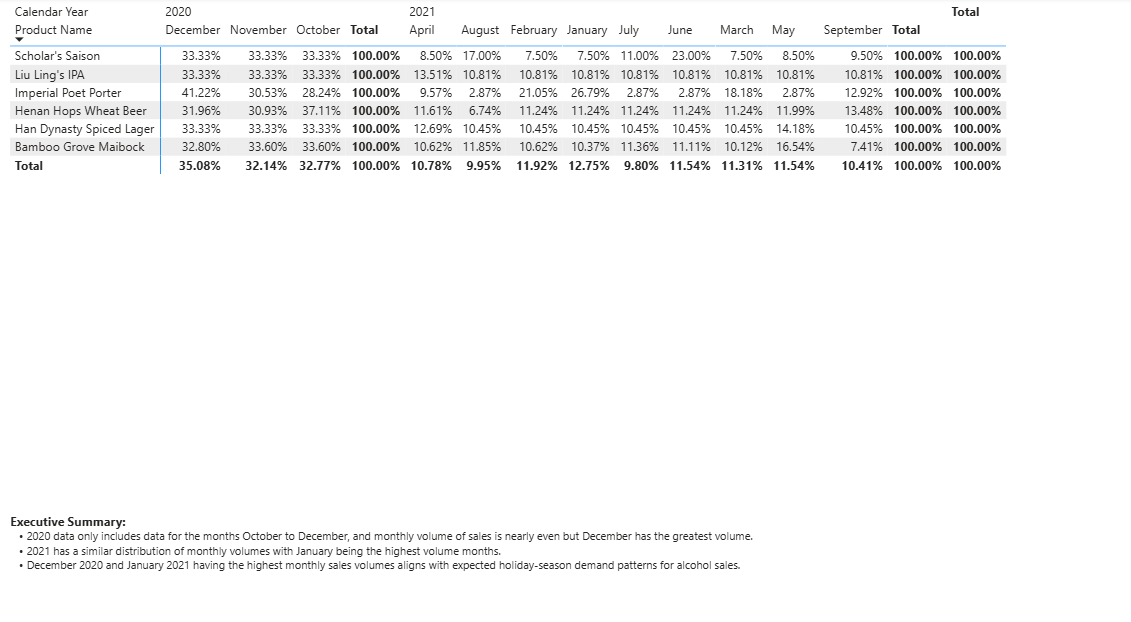

The dashboard page shown, as its layout file describes it:
{"tool":"powerbi","page":{"name":"SO2 - Seasonality","canvas":[1280,720],"ordinal":3},"visuals":[{"type":"pivotTable","fields":{"Rows":["dim_products.Product Name"],"Values":["measure.Unit Sales by Product (%)"],"Columns":["dim_date.Calendar Year","dim_date.Month Name"]},"box":[10,0,1126.7,221.1],"z":0},{"type":"textbox","box":[10,561.1,1151.1,84.4],"z":2}]}

Visuals, with their boxes in screenshot pixels (x1, y1, x2, y2), scaled from the page's 1280x720 canvas onto the 1131x622 screenshot:
pivotTable - dim_products.Product Name x measure.Unit Sales by Product (%): 9/0/1004/191
textbox: 9/485/1026/558
